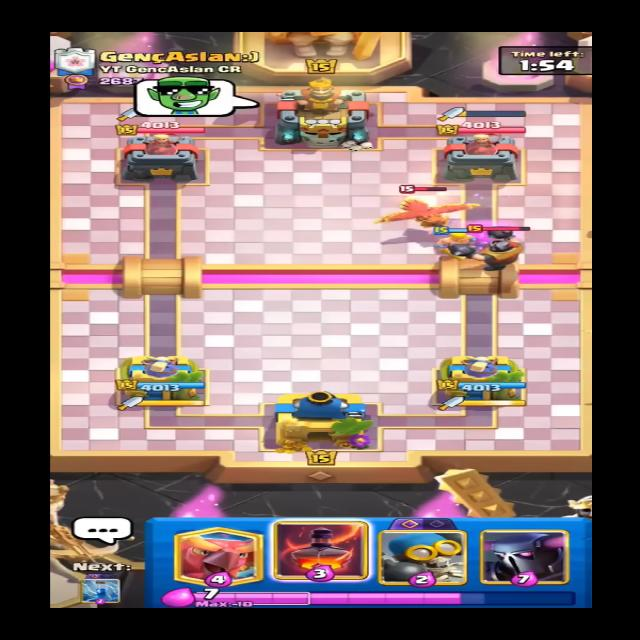mega-knight: (450, 223, 545, 276)
phoenix: (370, 184, 487, 230)
